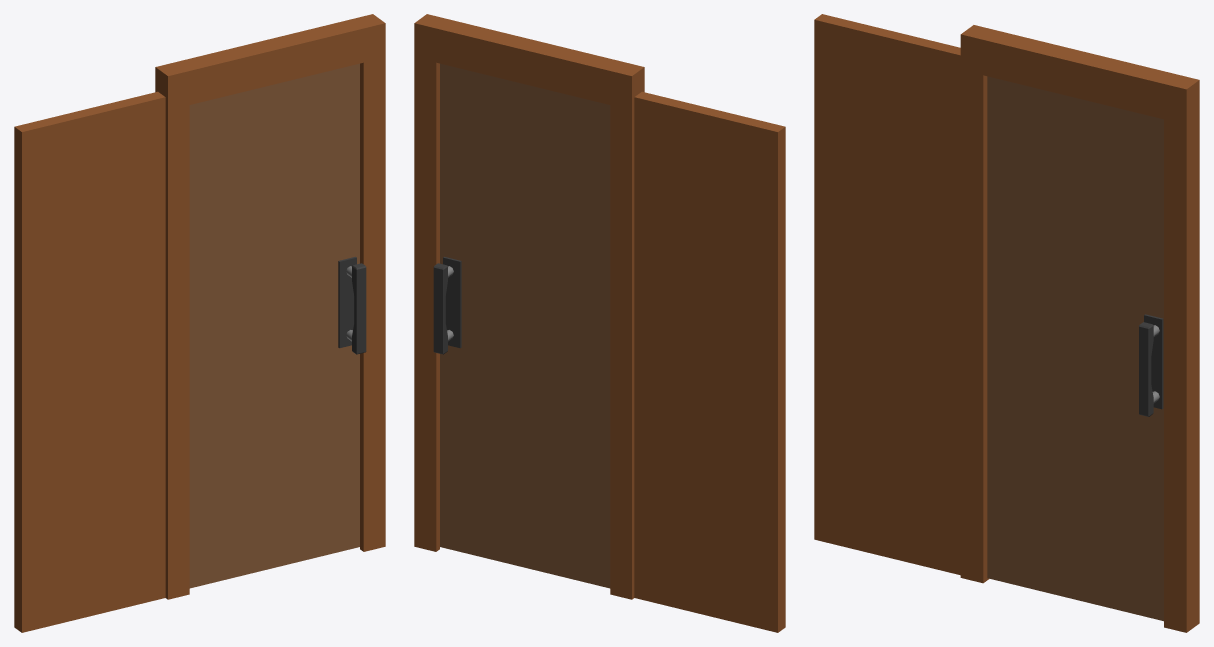
The model's file is BNG_Door_Wood_Slide.fbx.
The picture shows the model from 3 angles, left to right: view 1: azimuth 30°, elevation 25°; view 2: azimuth 150°, elevation 25°; view 3: azimuth 330°, elevation 25°; orthographic projection. The views are drawn at different scales.
Visible parts, largest first — view 1: BNG_Door_Wood_Slide_Frame, BNG_Door_Wood_Slide; view 2: BNG_Door_Wood_Slide_Frame, BNG_Door_Wood_Slide; view 3: BNG_Door_Wood_Slide_Frame, BNG_Door_Wood_Slide.
Part boxes in pixels (x1=…): BNG_Door_Wood_Slide_Frame: x1=14, y1=14, x2=385, y2=632; BNG_Door_Wood_Slide: x1=189, y1=63, x2=366, y2=588; BNG_Door_Wood_Slide_Frame: x1=414, y1=14, x2=785, y2=632; BNG_Door_Wood_Slide: x1=433, y1=63, x2=610, y2=588; BNG_Door_Wood_Slide_Frame: x1=814, y1=14, x2=1199, y2=632; BNG_Door_Wood_Slide: x1=987, y1=76, x2=1163, y2=621.
Size of the model in its own units: 166 by 230 by 24.
